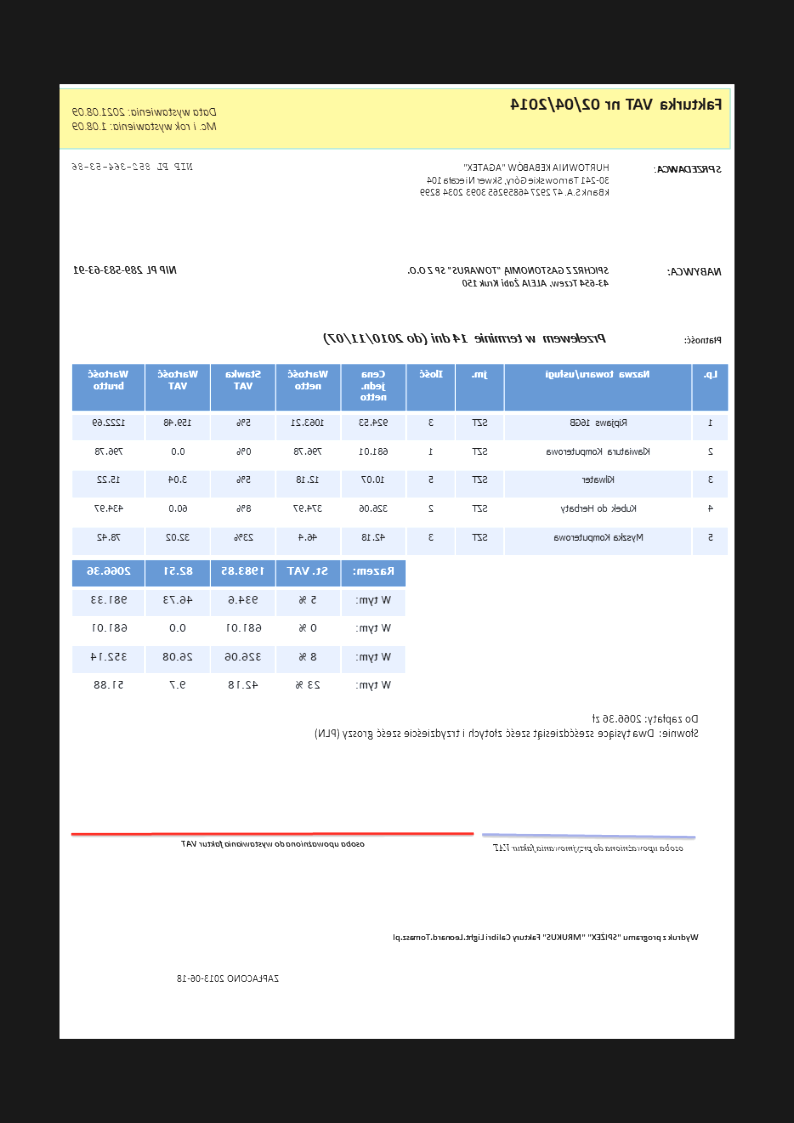Table: (71, 362, 730, 556), (71, 558, 407, 703)
TextBox: (314, 712, 701, 742), (418, 161, 612, 197), (406, 263, 611, 289), (321, 331, 610, 348), (69, 105, 218, 134), (508, 95, 724, 114), (390, 931, 700, 944), (180, 837, 366, 851), (491, 842, 686, 854), (70, 159, 196, 173), (71, 264, 179, 276), (173, 972, 281, 984), (653, 162, 723, 174), (665, 264, 725, 278), (683, 333, 725, 345)
